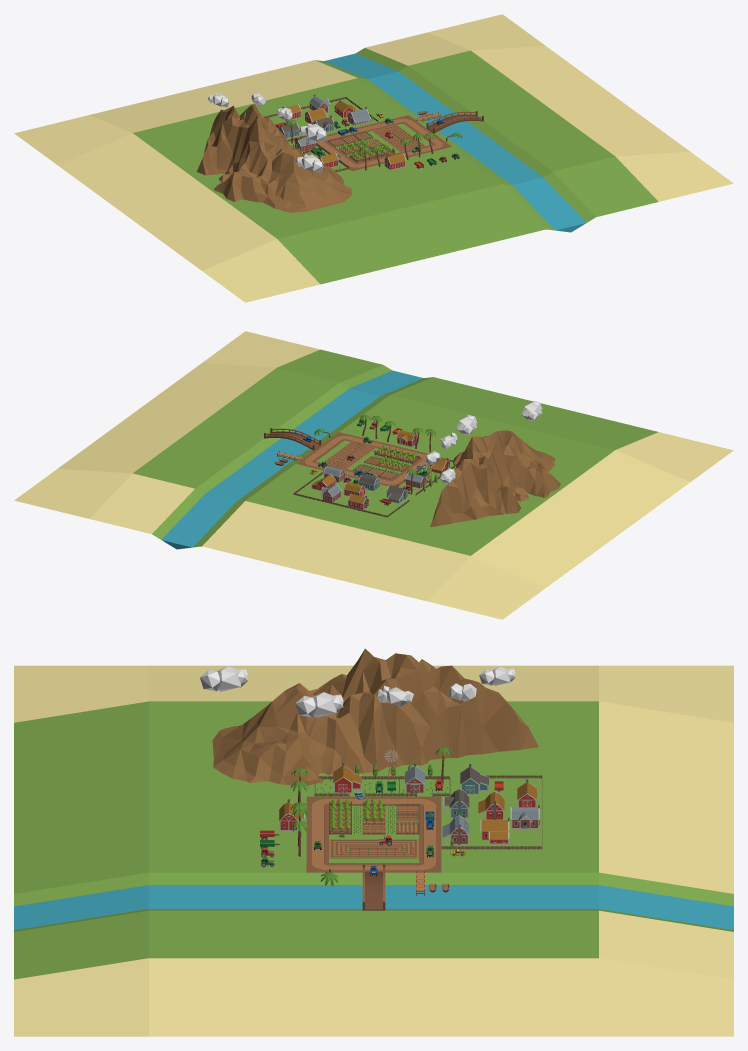
Rendered from Scene_Farm.fbx.
3 views of the same model, one above another, from view 1: azimuth 30°, elevation 25°; view 2: azimuth 150°, elevation 25°; view 3: azimuth 270°, elevation 25° (orthographic). The views are drawn at different scales.
Visible parts, largest first — view 1: SPW_Terrain_Grass_Plan A_Out_mid.001, SPW_Terrain_Sand_Plan A_Out_mid.013, SPW_Natures_Mount_07.001, SPW_Terrain_Grass_Flat.001, SPW_Terrain_Sand_Plan A_Out_mid.001, SPW_Terrain_Grass_Flat.065, SPW_Terrain_River_Mid.001, SPW_Terrain_Sand_Plan A_Out_mid.007, SPW_Terrain_Grass_Flat.067, SPW_Terrain_Sand_Plan A_Out_Corner.007, SPW_Terrain_Grass_Plan A_Out_mid.002, SPW_Terrain_Sand_Plan A_Out_Corner.002 (+11 smaller); view 2: SPW_Terrain_Sand_Plan A_Out_mid.007, SPW_Terrain_Sand_Plan A_Out_mid.013, SPW_Terrain_Grass_Flat.065, SPW_Terrain_Grass_Flat.001, SPW_Terrain_Sand_Plan A_Out_mid.001, SPW_Natures_Mount_07.001, SPW_Terrain_River_Mid.001, SPW_Terrain_Grass_Plan A_Out_mid.001, SPW_Terrain_Sand_Plan A_Out_Corner.006, SPW_Terrain_Grass_Flat.067, SPW_Terrain_Grass_Flat.068, SPW_Terrain_Sand_Plan A_Out_mid.002 (+11 smaller); view 3: SPW_Terrain_Sand_Plan A_Out_mid.001, SPW_Natures_Mount_07.001, SPW_Terrain_Grass_Plan A_Out_mid.001, SPW_Terrain_Sand_Plan A_Out_mid.007, SPW_Terrain_Grass_Flat.001, SPW_Terrain_Grass_Flat.065, SPW_Terrain_River_Mid.001, SPW_Terrain_Grass_Flat.067, SPW_Terrain_Sand_Plan A_Out_mid.013, SPW_Terrain_Sand_Plan A_Out_Corner.002, SPW_Terrain_Sand_Plan A_Out_Corner.001, SPW_Terrain_Grass_Flat.068 (+22 smaller).
Boxes of the visible parts, x1,y1,x2,y2 form: SPW_Terrain_Grass_Plan A_Out_mid.001: [277, 184, 545, 284]; SPW_Terrain_Sand_Plan A_Out_mid.013: [57, 133, 276, 270]; SPW_Natures_Mount_07.001: [197, 104, 351, 212]; SPW_Terrain_Grass_Flat.001: [408, 50, 614, 171]; SPW_Terrain_Sand_Plan A_Out_mid.001: [471, 46, 690, 156]; SPW_Terrain_Grass_Flat.065: [133, 103, 401, 238]; SPW_Terrain_River_Mid.001: [358, 66, 552, 184]; SPW_Terrain_Sand_Plan A_Out_mid.007: [89, 60, 357, 132]; SPW_Terrain_Grass_Flat.067: [352, 147, 502, 208]; SPW_Terrain_Sand_Plan A_Out_Corner.007: [202, 239, 320, 302]; SPW_Terrain_Grass_Plan A_Out_mid.002: [553, 156, 658, 216]; SPW_Terrain_Sand_Plan A_Out_Corner.002: [616, 152, 733, 201]; SPW_Terrain_Sand_Plan A_Out_mid.007: [202, 501, 470, 601]; SPW_Terrain_Sand_Plan A_Out_mid.013: [471, 450, 690, 587]; SPW_Terrain_Grass_Flat.065: [346, 419, 614, 555]; SPW_Terrain_Grass_Flat.001: [133, 367, 339, 488]; SPW_Terrain_Sand_Plan A_Out_mid.001: [57, 363, 276, 473]; SPW_Natures_Mount_07.001: [430, 430, 560, 526]; SPW_Terrain_River_Mid.001: [195, 383, 389, 501]; SPW_Terrain_Grass_Plan A_Out_mid.001: [390, 377, 658, 449]; SPW_Terrain_Sand_Plan A_Out_Corner.006: [427, 556, 545, 619]; SPW_Terrain_Grass_Flat.067: [340, 395, 489, 455]; SPW_Terrain_Grass_Flat.068: [245, 464, 388, 525]; SPW_Terrain_Sand_Plan A_Out_mid.002: [89, 473, 194, 533]; SPW_Terrain_Sand_Plan A_Out_mid.001: [149, 958, 598, 1036]; SPW_Natures_Mount_07.001: [212, 648, 538, 786]; SPW_Terrain_Grass_Plan A_Out_mid.001: [14, 701, 148, 893]; SPW_Terrain_Sand_Plan A_Out_mid.007: [599, 701, 733, 893]; SPW_Terrain_Grass_Flat.001: [149, 910, 598, 958]; SPW_Terrain_Grass_Flat.065: [149, 701, 598, 796]; SPW_Terrain_River_Mid.001: [149, 872, 598, 910]; SPW_Terrain_Grass_Flat.067: [149, 796, 306, 872]; SPW_Terrain_Sand_Plan A_Out_mid.013: [149, 665, 598, 701]; SPW_Terrain_Sand_Plan A_Out_Corner.002: [14, 958, 148, 1036]; SPW_Terrain_Sand_Plan A_Out_Corner.001: [599, 958, 733, 1036]; SPW_Terrain_Grass_Flat.068: [441, 796, 598, 872].
Size of what is drawn, in the model's own units: 390 by 62.71 by 320.
16 materials, 16 textured.
